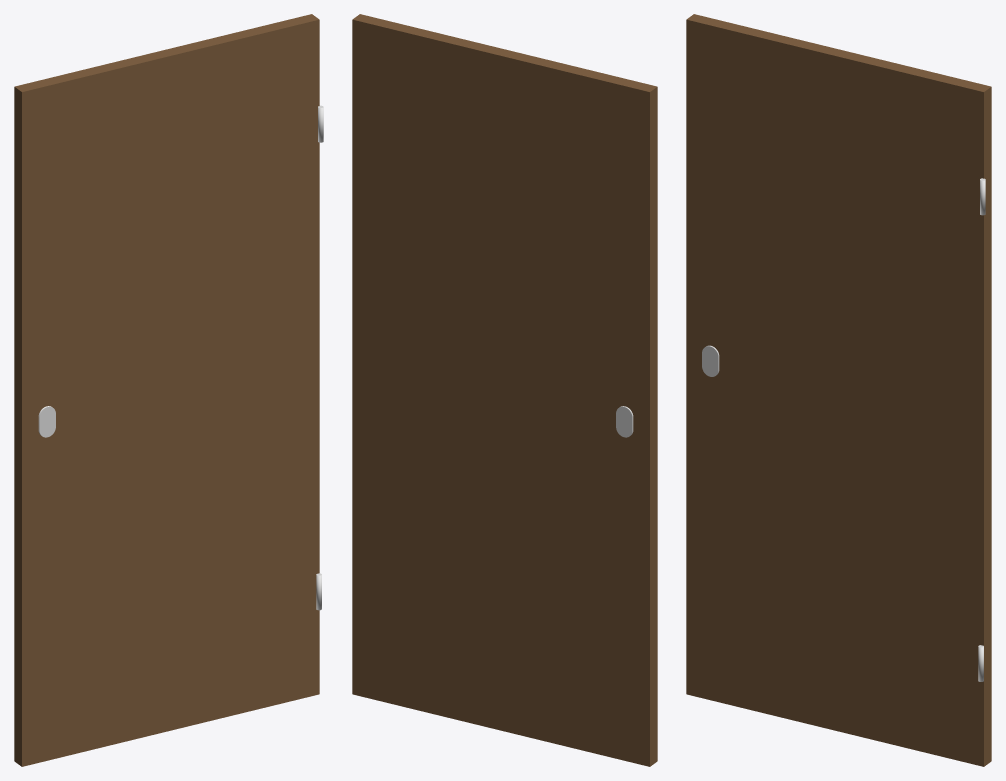
The model's file is Panel.gltf.
3 views of the same model, side by side, from view 1: azimuth 30°, elevation 25°; view 2: azimuth 150°, elevation 25°; view 3: azimuth 330°, elevation 25° (orthographic).
Parts seen in each view (by area): view 1: Panel; view 2: Panel; view 3: Panel.
Boxes of the visible parts, left/top/right/bottom form: Panel: left=14, top=14, right=323, bottom=766; Panel: left=352, top=14, right=657, bottom=766; Panel: left=686, top=14, right=991, bottom=766.
Bounding box in the file's own units: 0.9075 × 1.95 × 0.0585.
